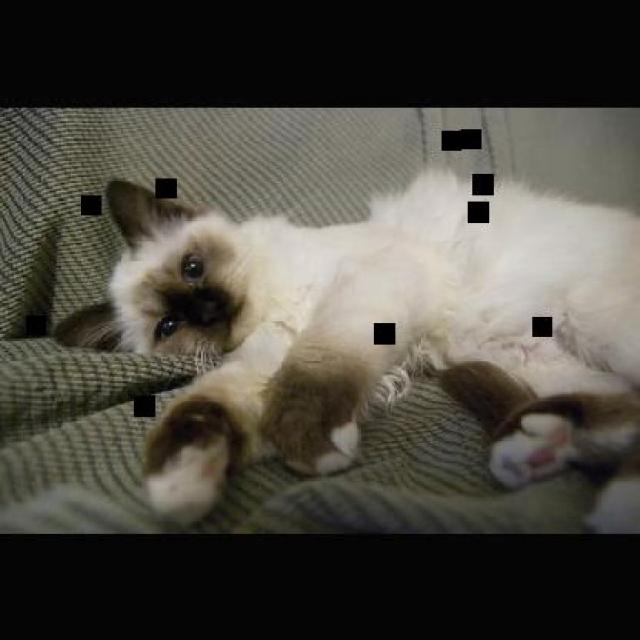unauthorized: (52, 163, 638, 526)
